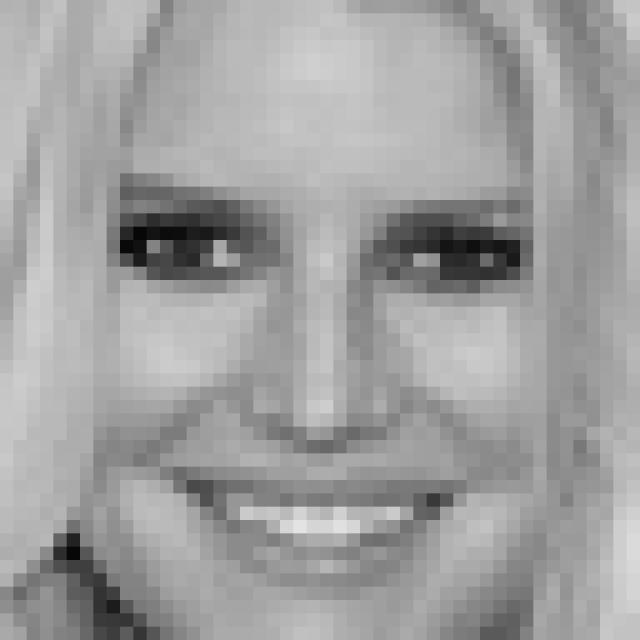happy: (111, 166, 534, 594)
